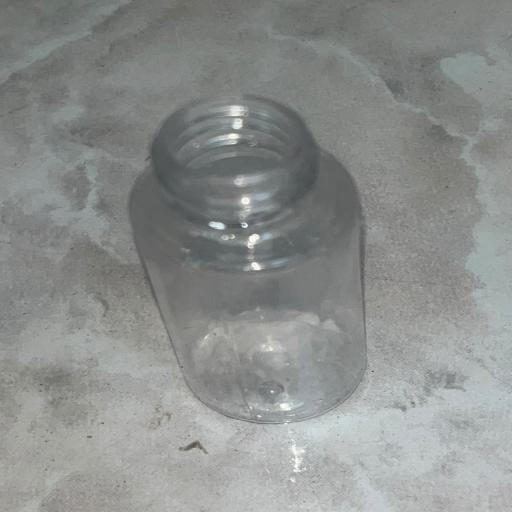PET: (91, 72, 459, 460)
